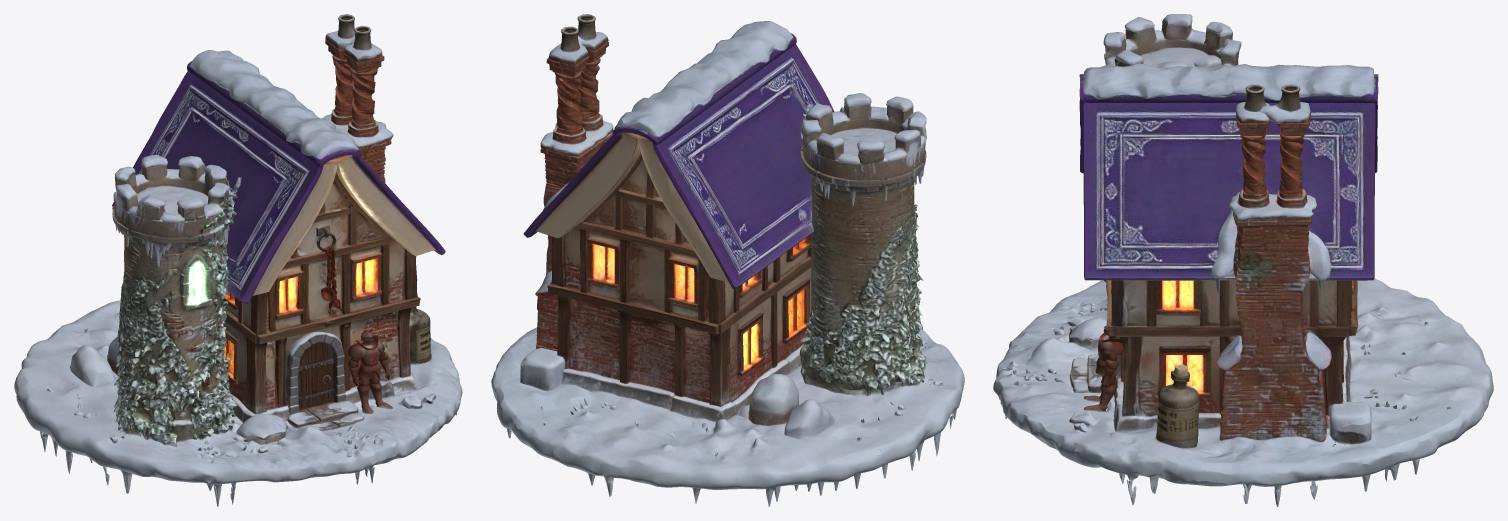
File: canterville-ghost.glb
3 renders of one model, left to right at view 1: azimuth 30°, elevation 25°; view 2: azimuth 150°, elevation 25°; view 3: azimuth 270°, elevation 25°, orthographic. The views are drawn at different scales.
Visible parts, largest first — view 1: model; view 2: model; view 3: model.
Boxes of the visible parts, x1,y1,x2,y2 form: model: [14, 14, 462, 506]; model: [491, 14, 964, 506]; model: [993, 14, 1493, 506].
Size of the model in its own units: 1.87 by 1.66 by 1.9.
1 material, 1 textured.
